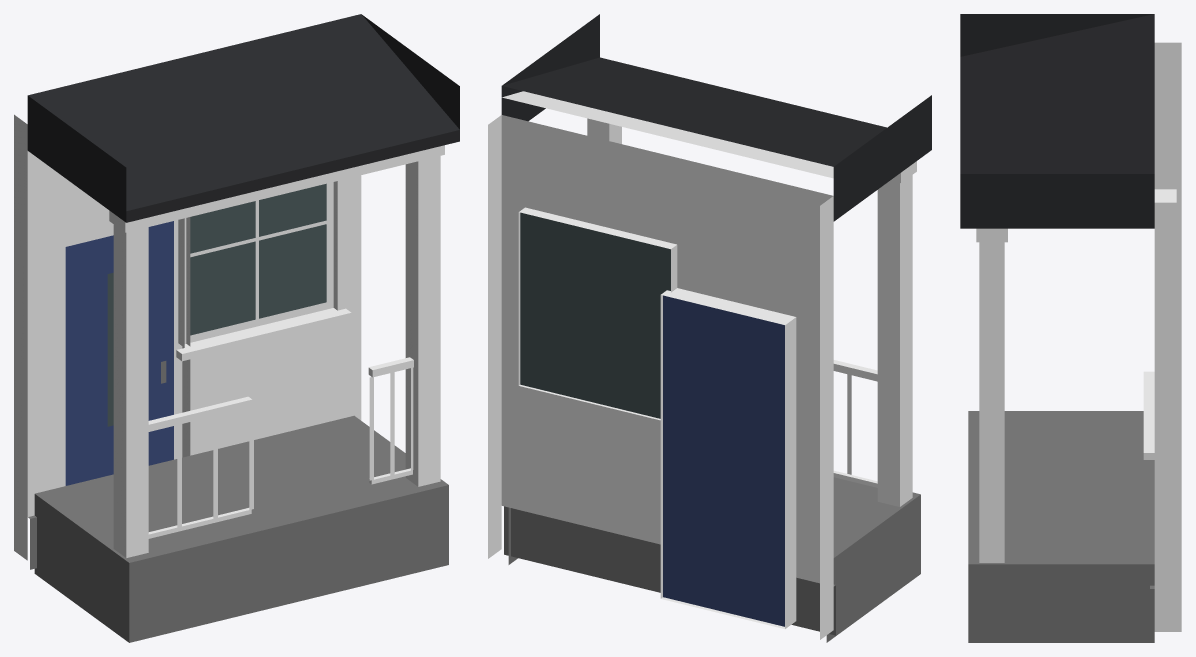
File: base-stair3.fbx
The picture shows the model from 3 angles, left to right: view 1: azimuth 30°, elevation 25°; view 2: azimuth 150°, elevation 25°; view 3: azimuth 270°, elevation 25°; orthographic projection.
Visible parts, largest first — view 1: a2015/200/base-stair; view 2: a2015/200/base-stair; view 3: a2015/200/base-stair.
Boxes of the visible parts, x1=… form: a2015/200/base-stair: x1=14, y1=14, x2=459, y2=642; a2015/200/base-stair: x1=488, y1=14, x2=931, y2=642; a2015/200/base-stair: x1=960, y1=14, x2=1181, y2=642.
Size of the model in its own units: 2.4 by 3.3 by 1.4.
